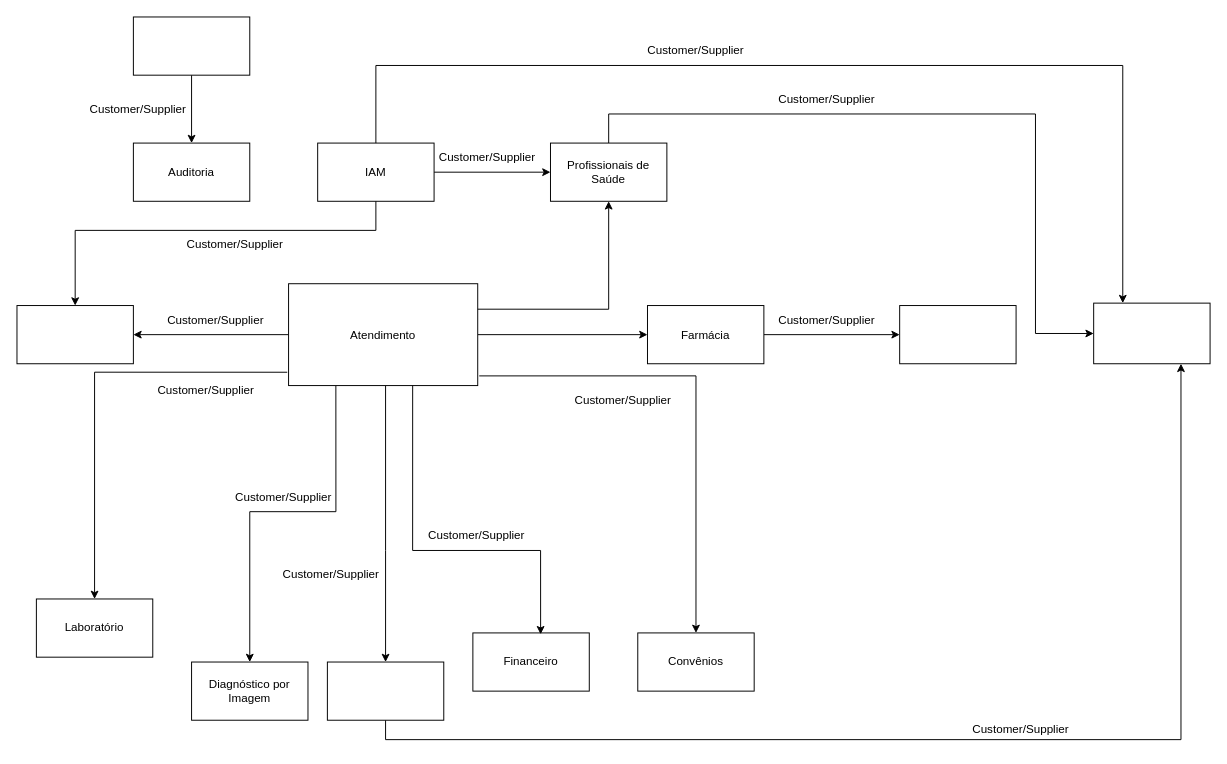
Image size: 1227x764. Some labels were removed from this diagram. Here are the shapes that lost their labels. From the top down, the centre of each, then its label:
At [191,45]: "Todos os Contextos".
At [74,334]: "Pacientes".
At [957,334]: "Estoque".
At [1151,333]: "Estrutura Organizacional".
At [385,690]: "Internação".
